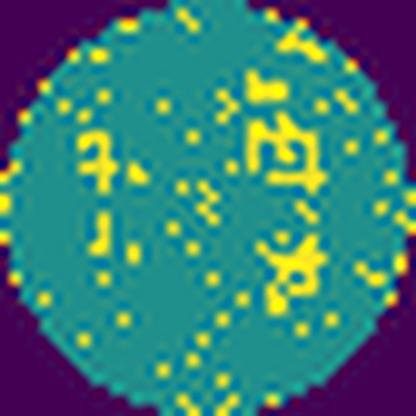Loc: (243, 111, 329, 199), (253, 232, 329, 314), (72, 126, 122, 191), (246, 70, 293, 103)
